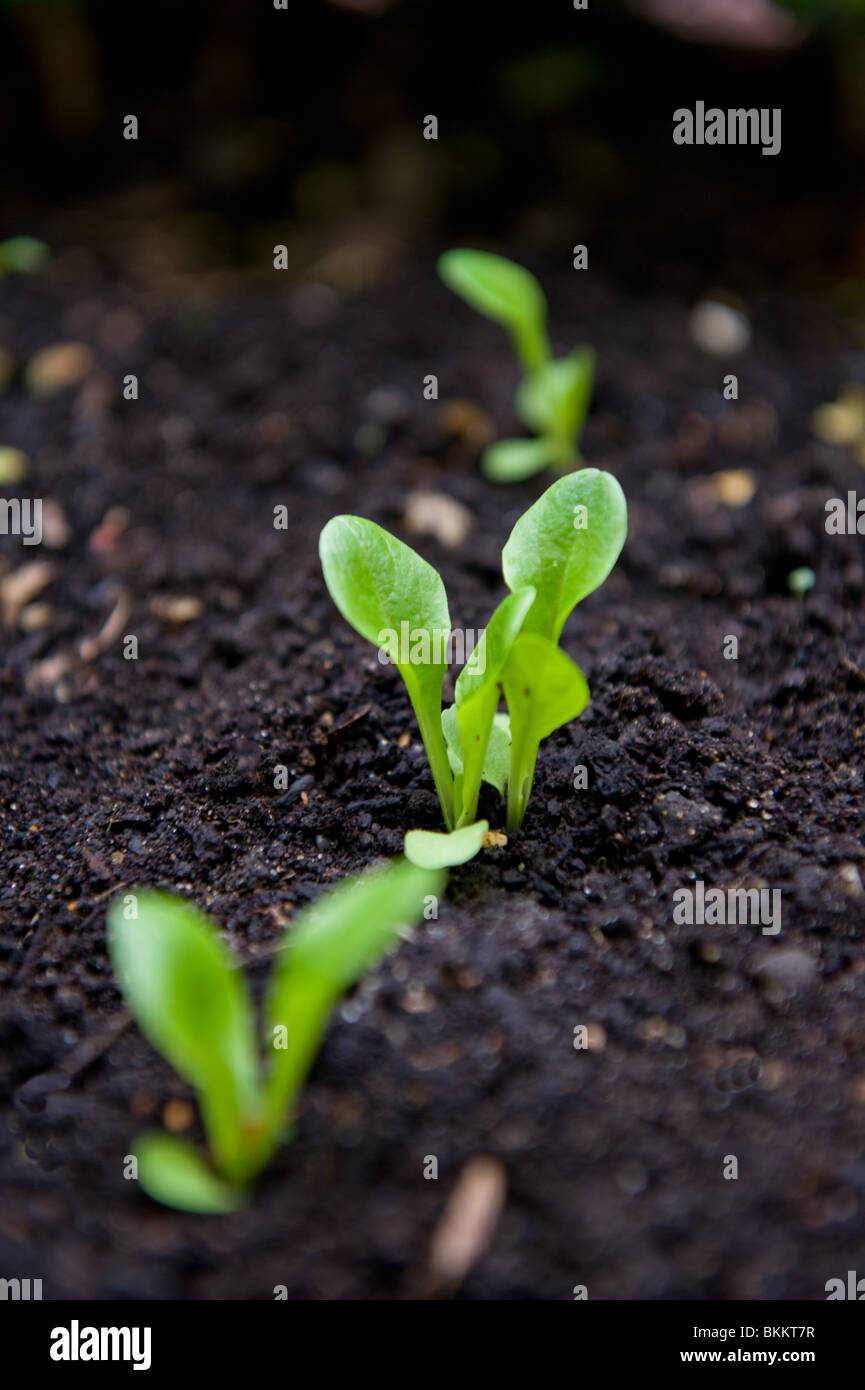lettuce: (38, 335, 783, 1224)
